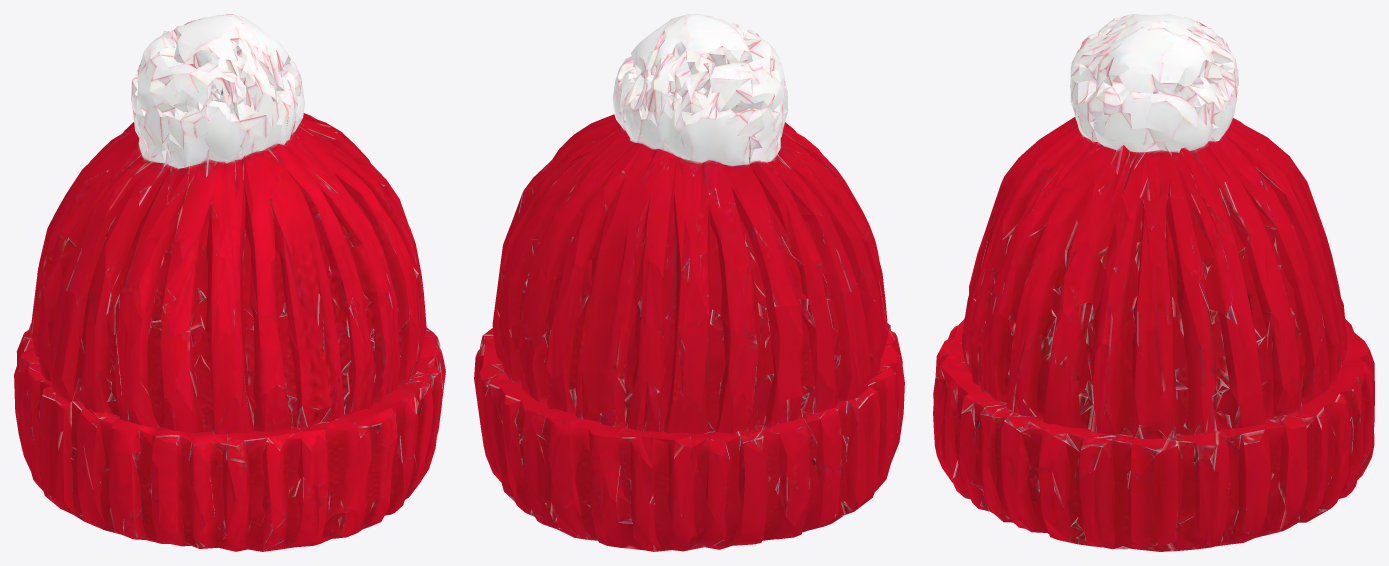
Rendered from beanie.glb.
3 views of the same model, side by side, from view 1: azimuth 30°, elevation 25°; view 2: azimuth 150°, elevation 25°; view 3: azimuth 270°, elevation 25° (orthographic).
Bounding box in the file's own units: 1.17 × 1.4 × 1.23.
1 material, 1 textured.
